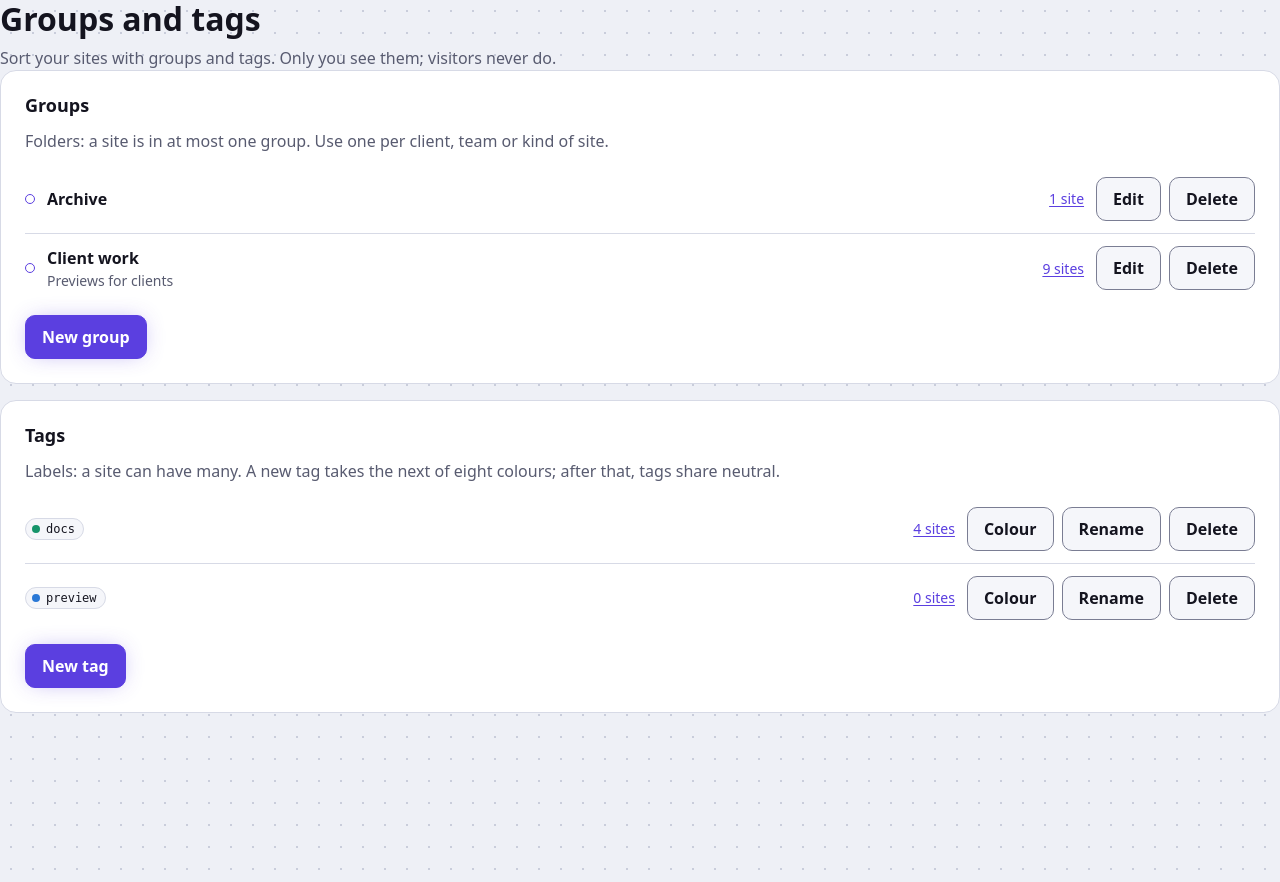
Test case: groups › shows the server’s 409 under the name field
Click the button "New group" at (86, 337), box [25,315,147,359]
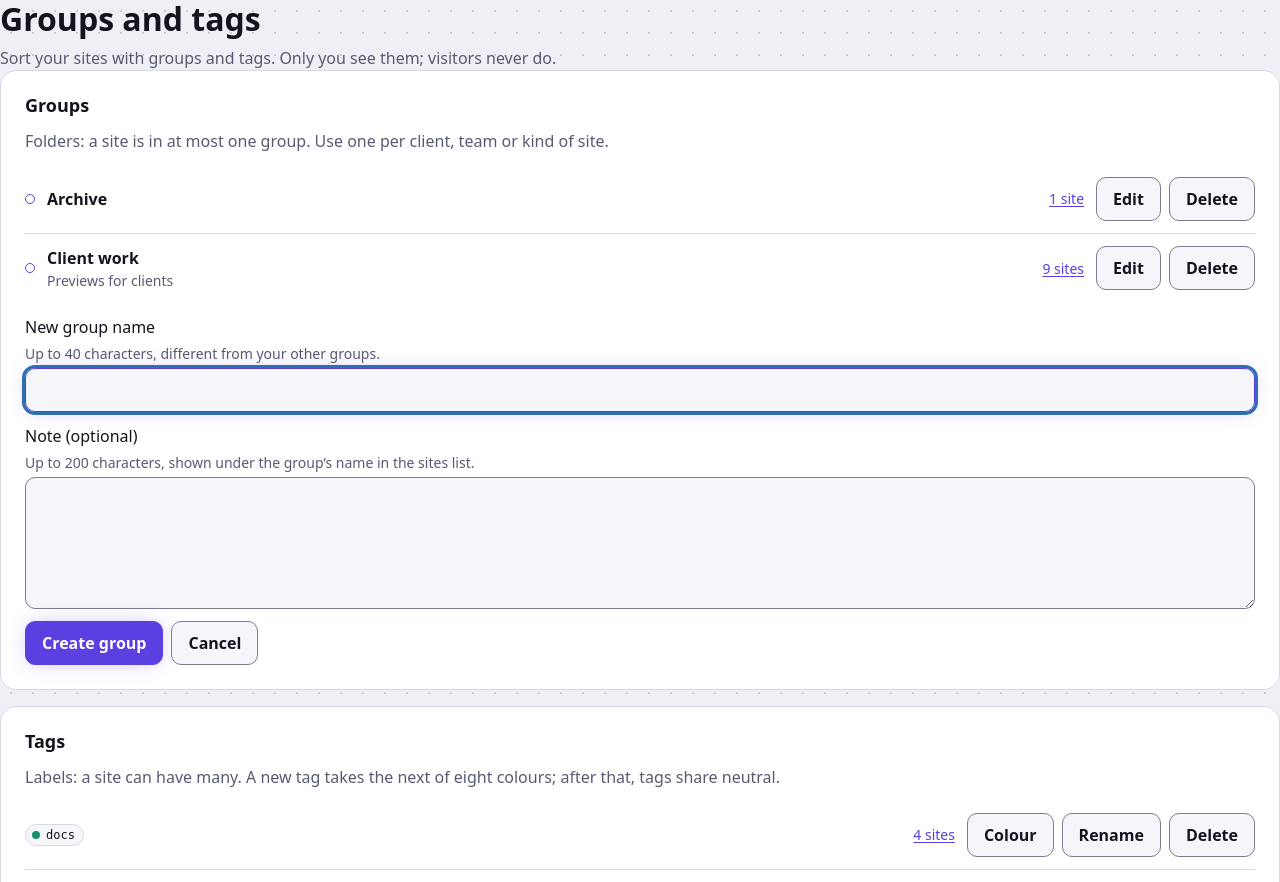
Type "Client work" into the field labelled "New group name" at (640, 390), box [25,368,1255,412]
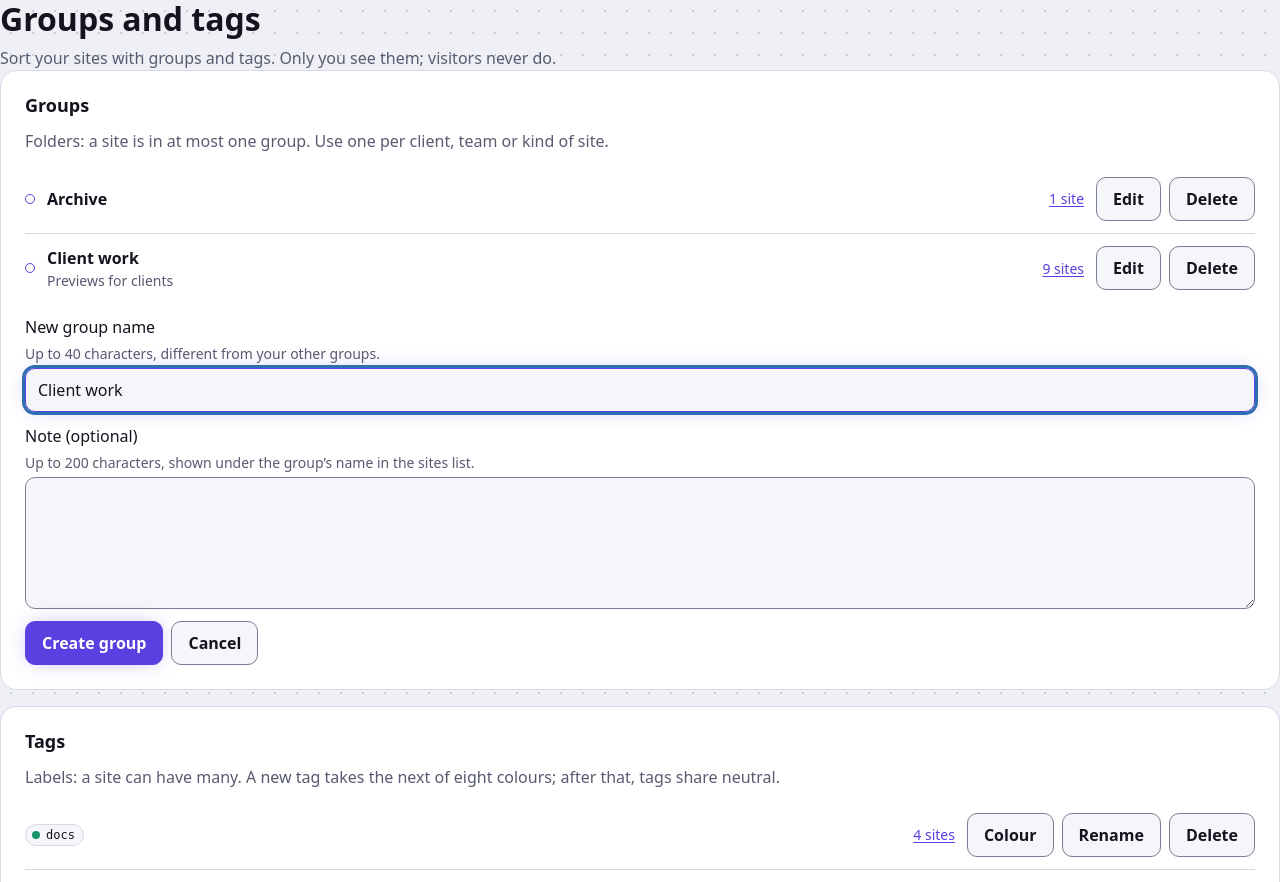
Click the button "Create group" at (94, 643), box [25,621,163,665]
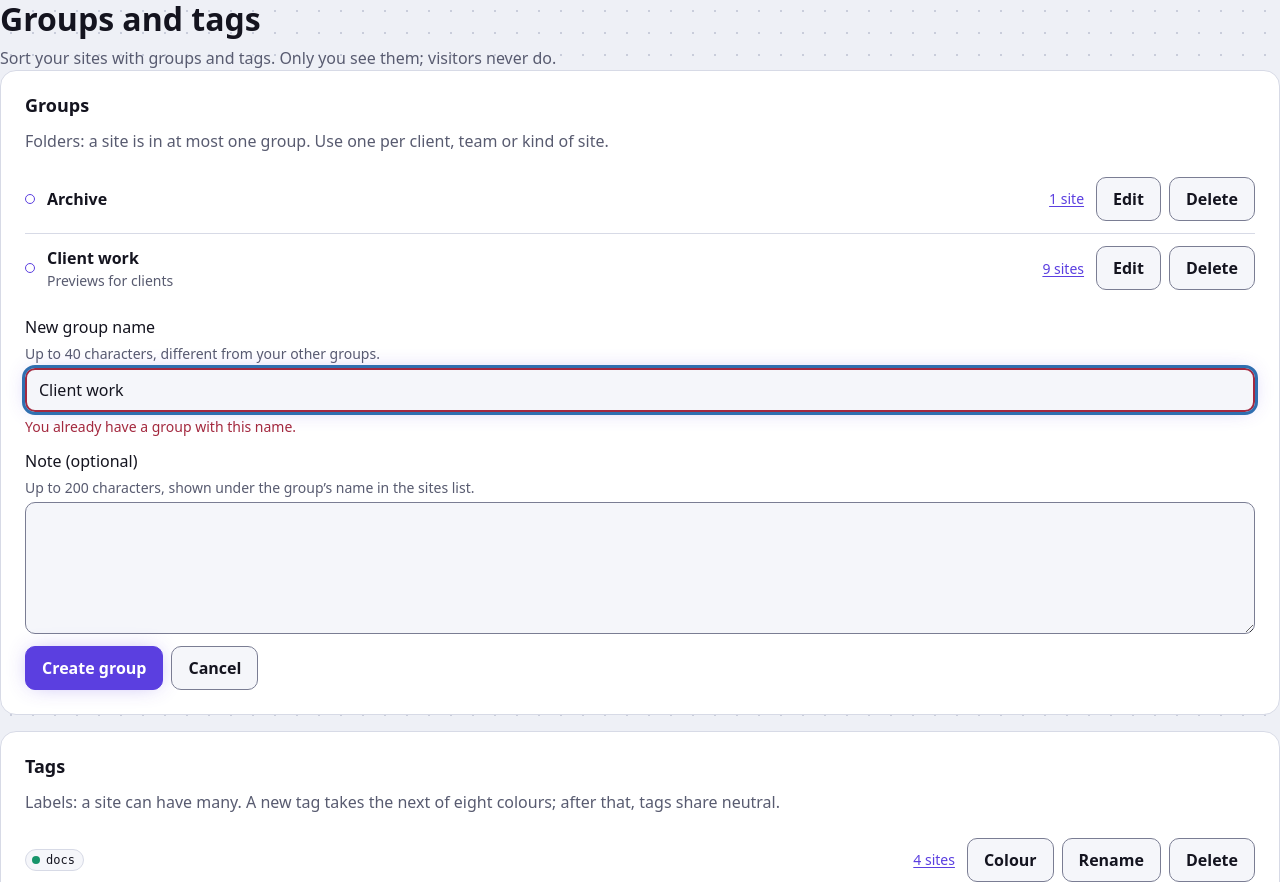
expect the message reads "You already have a group with this name.": met, box [25,417,296,436]
